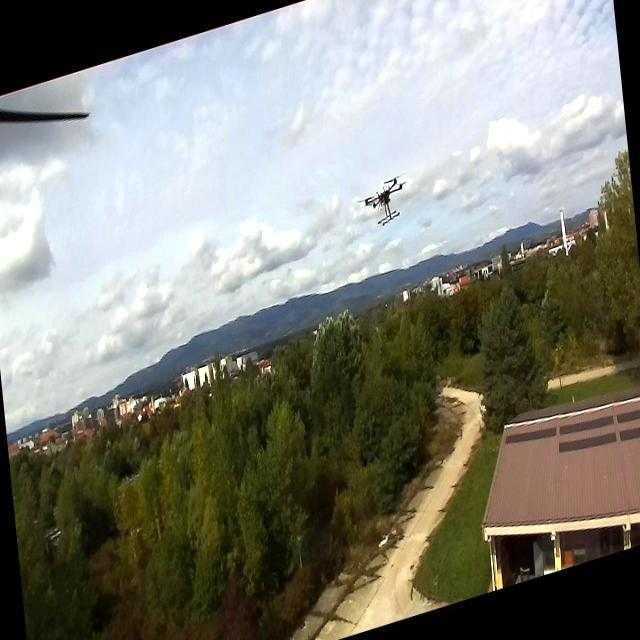drone: (360, 172, 410, 236)
